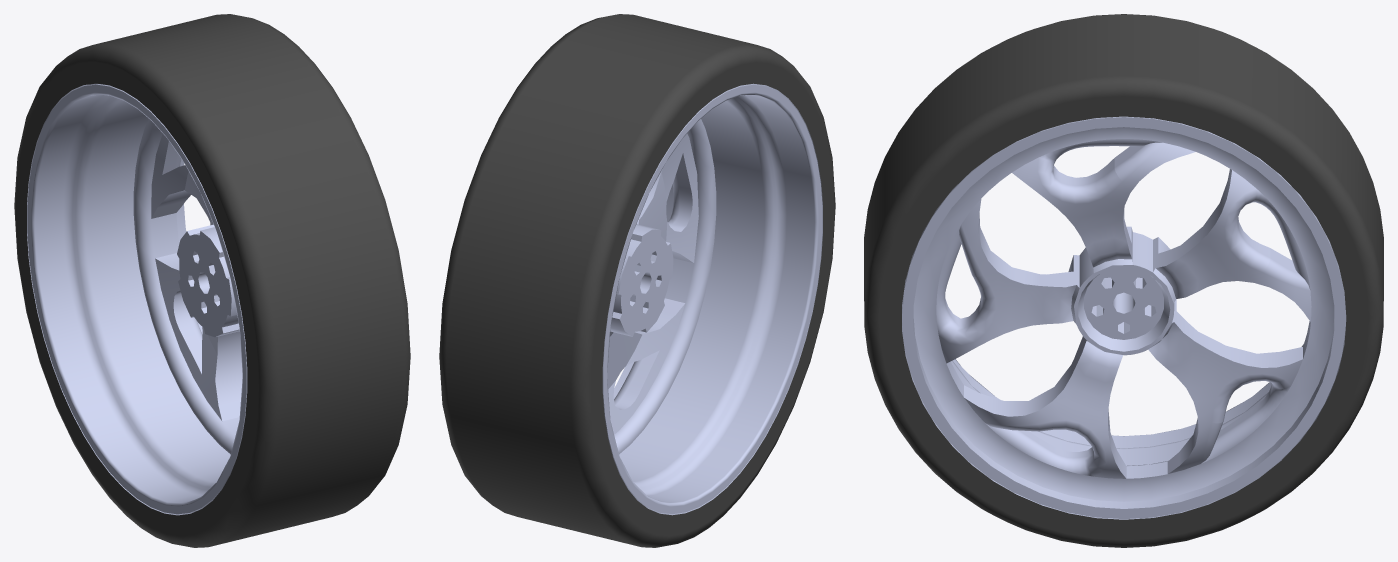
File: wheel.dae
The picture shows the model from 3 angles, left to right: view 1: azimuth 30°, elevation 25°; view 2: azimuth 150°, elevation 25°; view 3: azimuth 270°, elevation 25°; orthographic projection.
Visible parts, largest first — view 1: Disk_4__Default_; view 2: Disk_4__Default_; view 3: Disk_4__Default_.
Part boxes in pixels (x1=…): Disk_4__Default_: x1=14, y1=14, x2=410, y2=547; Disk_4__Default_: x1=439, y1=14, x2=835, y2=547; Disk_4__Default_: x1=864, y1=14, x2=1383, y2=547.
Bounding box in the file's own units: 56.46 × 167 × 167.
